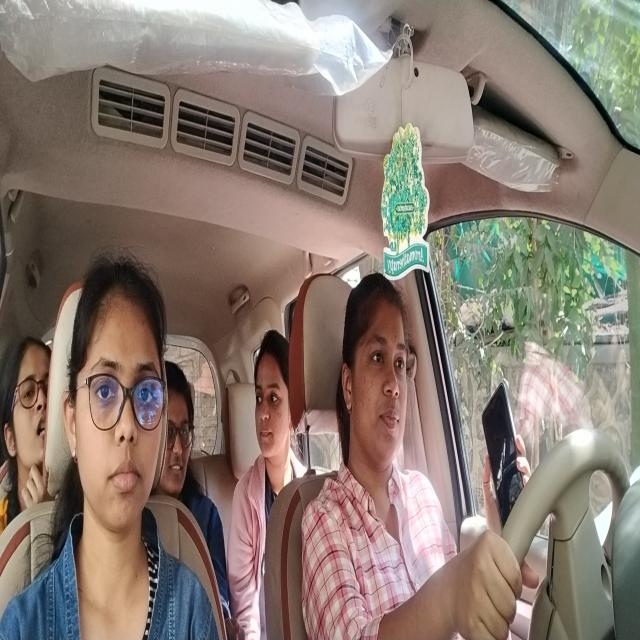mobile: (478, 378, 529, 534)
person: (62, 248, 166, 530), (339, 272, 408, 474), (0, 336, 54, 482), (257, 319, 291, 469), (165, 358, 201, 498)
